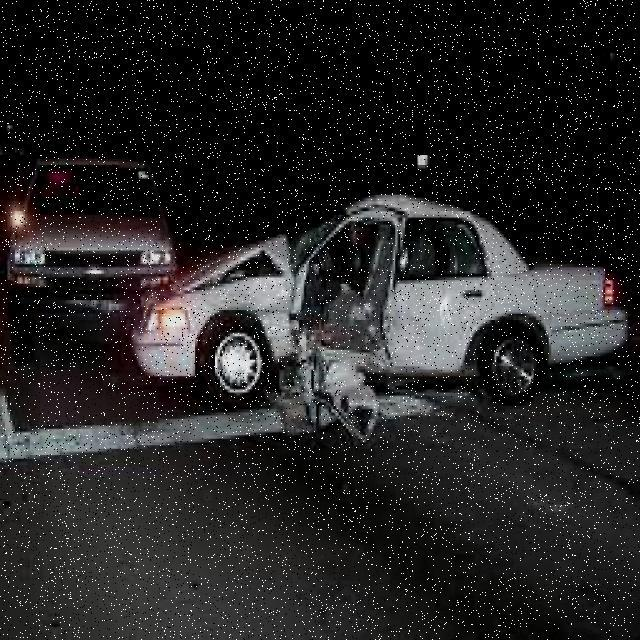car damage: (159, 193, 542, 442)
